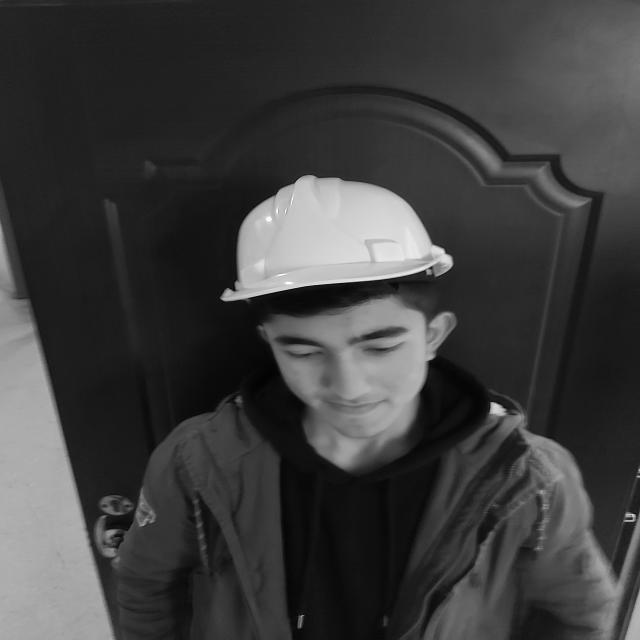safety_helmet: (223, 176, 454, 317)
